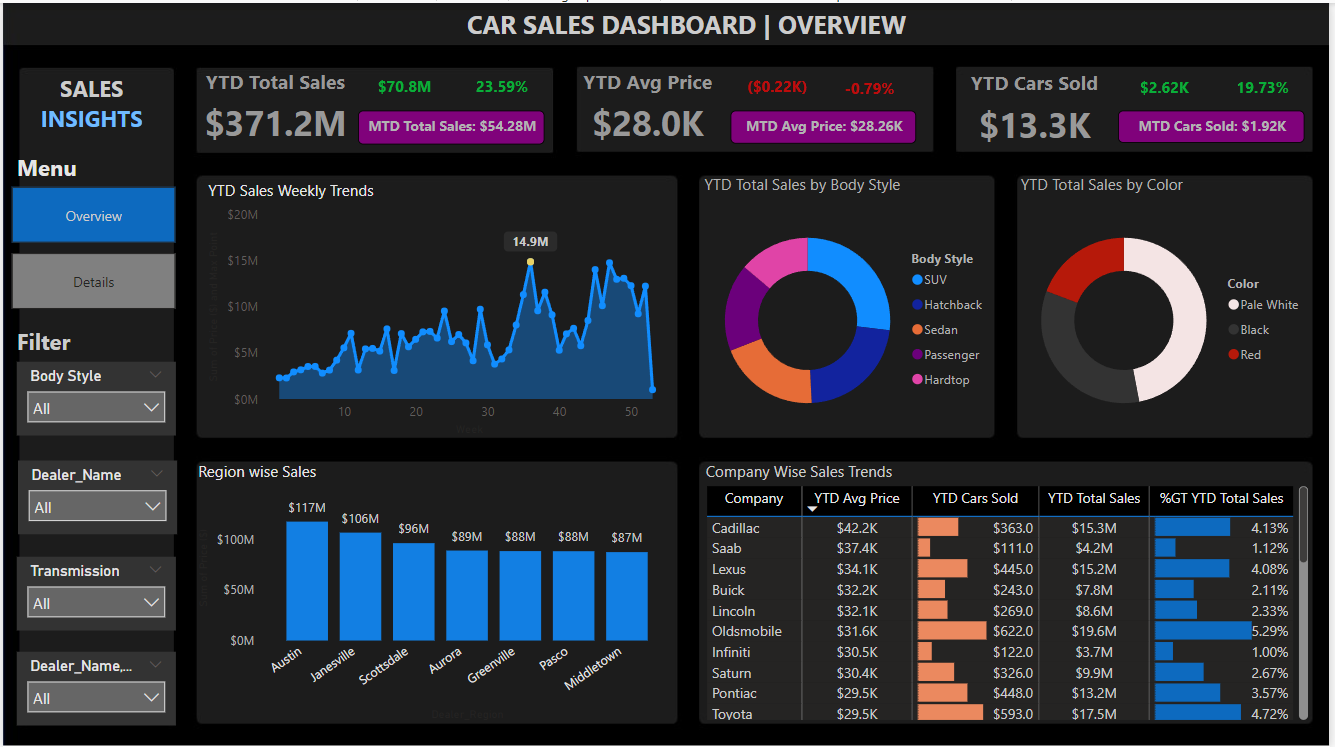

The dashboard page shown, as its layout file describes it:
{"tool":"powerbi","page":{"name":"Overview","canvas":[1280,720],"ordinal":0},"visuals":[{"type":"card","title":"YTD Total Sales","fields":{"Values":["car_data.YTD Total Sales"]},"box":[183.4,62.7,159.3,82],"z":0},{"type":"card","fields":{"Values":["car_data.Sales Difference"]},"box":[342.6,62.7,90.5,41],"z":1000},{"type":"card","fields":{"Values":["car_data.YOY Sales Growth"]},"box":[433.1,62.7,97.7,41],"z":2000},{"type":"card","fields":{"Values":["car_data.MTD KPE"]},"box":[342.6,103.8,179.8,32.6],"z":3000},{"type":"card","title":"YTD Avg Price","fields":{"Values":["car_data.YTD Avg Price"]},"box":[543,63,159,82],"z":4000},{"type":"card","fields":{"Values":["car_data.Avg Price Diff"]},"box":[702,63,90,41],"z":5000},{"type":"card","fields":{"Values":["car_data.YOY Avg Price Growth"]},"box":[792,63,90,43],"z":6000},{"type":"card","fields":{"Values":["car_data.MTD Avg Price KPI"]},"box":[702,104,179,32],"z":7000},{"type":"card","title":"YTD Cars Sold","fields":{"Values":["car_data.YTD Cars Sold"]},"box":[916.2,63.8,160,82.5],"z":8000},{"type":"card","fields":{"Values":["car_data.Cars Sold Diff"]},"box":[1076.2,62.5,90,41.2],"z":9000},{"type":"card","fields":{"Values":["car_data.YOY Cars Sold Growth"]},"box":[1166.2,62.5,98.8,41.2],"z":10000},{"type":"donutChart","fields":{"Category":["car_data.Body Style"],"Y":["car_data.YTD Total Sales"]},"box":[672.5,163.8,287.5,265],"z":11000},{"type":"donutChart","fields":{"Y":["car_data.YTD Total Sales"],"Category":["car_data.Color"]},"box":[977.5,163.8,287.5,265],"z":12000},{"type":"tableEx","title":"Company Wise Sales Trends","fields":{"Values":["car_data.Company","car_data.YTD Avg Price","car_data.YTD Cars Sold","car_data.YTD Total Sales1","car_data.YTD Total Sales"]},"box":[672.9,441.4,591.4,255.7],"z":13000},{"type":"card","fields":{"Values":["car_data.MTD Cars Sold KPI"]},"box":[1075.7,104.3,180,31.4],"z":14000},{"type":"textbox","box":[442.8,0,472.9,55.5],"z":15000},{"type":"slicer","fields":{"Values":["car_data.Body Style"]},"box":[13.3,346.2,153.2,71.2],"z":16000},{"type":"slicer","fields":{"Values":["car_data.Transmission"]},"box":[13.3,534.5,153.2,71.2],"z":17000},{"type":"slicer","fields":{"Values":["car_data.Engine"]},"box":[13.3,626.1,153.2,71.2],"z":18000},{"type":"slicer","fields":{"Values":["car_data.Dealer_Name"]},"box":[14.5,441.6,153.2,71.2],"z":19000},{"type":"textbox","box":[8.4,306.4,153.2,39.8],"z":20000},{"type":"textbox","box":[8.4,138.7,143.6,38.6],"z":21000},{"type":"textbox","box":[13.3,62.7,144.8,67.6],"z":22000},{"type":"areaChart","title":"YTD Sales Weekly Trends","fields":{"Category":["Calendar Table.Week"],"Y":["Sum(car_data.Price ($))","car_data.Max Point"]},"box":[193,170.1,456,252.1],"z":23000},{"type":"pageNavigator","box":[8.4,177.3,158,119.4],"z":24000},{"type":"columnChart","title":"Region wise Sales","fields":{"Y":["Sum(car_data.Price ($))"],"Category":["car_data.Dealer_Region"]},"box":[183.4,441.6,465.7,255.8],"z":25000}]}

Visuals, with their boxes in screenshot pixels (x1, y1, x2, y2), scaled from the page's 1280x720 canvas onto the 1335x747 screenshot:
"YTD Total Sales" card: bbox=(191, 65, 357, 150)
card - car_data.Sales Difference: bbox=(357, 65, 452, 108)
card - car_data.YOY Sales Growth: bbox=(452, 65, 554, 108)
card - car_data.MTD KPE: bbox=(357, 108, 545, 142)
"YTD Avg Price" card: bbox=(566, 65, 732, 150)
card - car_data.Avg Price Diff: bbox=(732, 65, 826, 108)
card - car_data.YOY Avg Price Growth: bbox=(826, 65, 920, 110)
card - car_data.MTD Avg Price KPI: bbox=(732, 108, 919, 141)
"YTD Cars Sold" card: bbox=(956, 66, 1122, 152)
card - car_data.Cars Sold Diff: bbox=(1122, 65, 1216, 108)
card - car_data.YOY Cars Sold Growth: bbox=(1216, 65, 1319, 108)
donutChart - car_data.Body Style x car_data.YTD Total Sales: bbox=(701, 170, 1001, 445)
donutChart - car_data.YTD Total Sales x car_data.Color: bbox=(1020, 170, 1319, 445)
"Company Wise Sales Trends" tableEx: bbox=(702, 458, 1319, 723)
card - car_data.MTD Cars Sold KPI: bbox=(1122, 108, 1310, 141)
textbox: bbox=(462, 0, 955, 58)
slicer - car_data.Body Style: bbox=(14, 359, 174, 433)
slicer - car_data.Transmission: bbox=(14, 555, 174, 628)
slicer - car_data.Engine: bbox=(14, 650, 174, 723)
slicer - car_data.Dealer_Name: bbox=(15, 458, 175, 532)
textbox: bbox=(9, 318, 169, 359)
textbox: bbox=(9, 144, 159, 184)
textbox: bbox=(14, 65, 165, 135)
"YTD Sales Weekly Trends" areaChart: bbox=(201, 176, 677, 438)
pageNavigator: bbox=(9, 184, 174, 308)
"Region wise Sales" columnChart: bbox=(191, 458, 677, 724)
